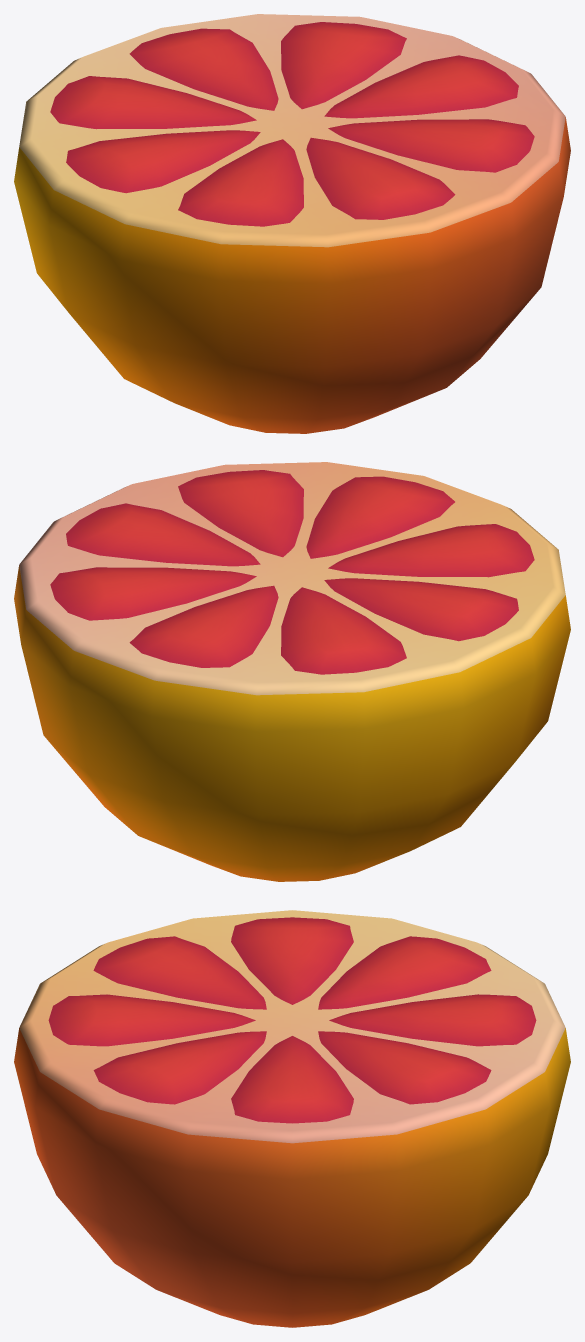
Rendered from grapefruit_001.fbx.
3 views of the same model, one above another, from view 1: azimuth 30°, elevation 25°; view 2: azimuth 150°, elevation 25°; view 3: azimuth 270°, elevation 25° (orthographic).
Visible parts, largest first — view 1: grapefruit_001; view 2: grapefruit_001; view 3: grapefruit_001.
Part boxes in pixels (left/top/right/bottom): grapefruit_001: left=14, top=14, right=570, bottom=433; grapefruit_001: left=14, top=462, right=570, bottom=881; grapefruit_001: left=14, top=910, right=570, bottom=1327.
Size of the model in its own units: 10.98 by 10.98 by 6.36.
